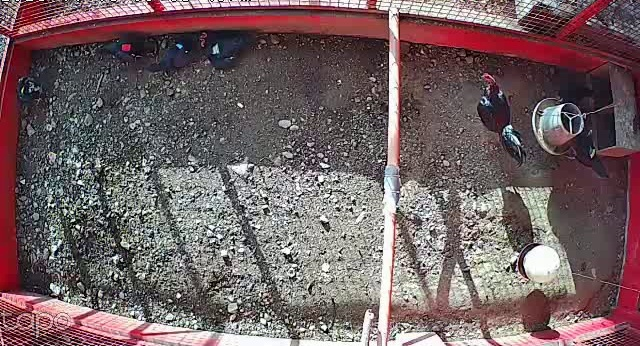Chicken: (145, 29, 216, 76), (558, 126, 612, 182), (203, 28, 255, 73), (97, 32, 160, 65)
Rooster: (472, 69, 529, 166)
Saddle_Color_Blue: (176, 42, 184, 50)
Saddle_Color_Red: (121, 42, 130, 51)
Saddle_Color_White: (212, 43, 221, 55)
Saddle_Color_YellowGreen: (589, 147, 596, 160)
